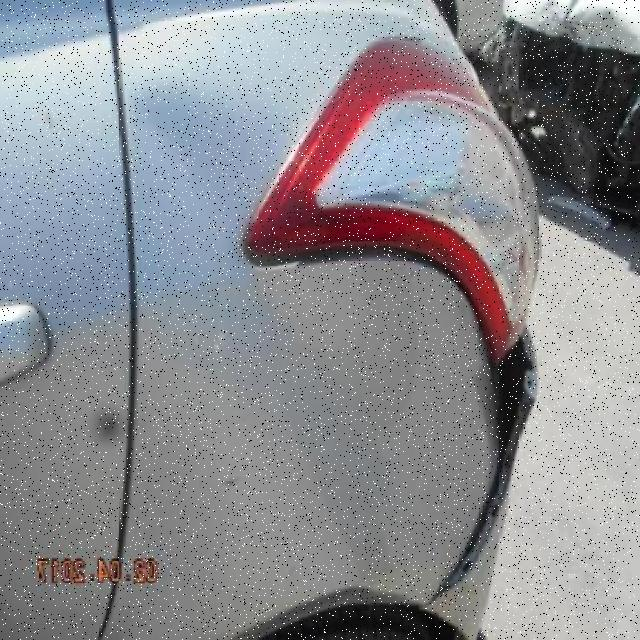damage: (432, 324, 540, 604)
